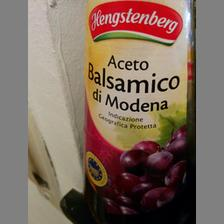Essig: (84, 0, 196, 222)
